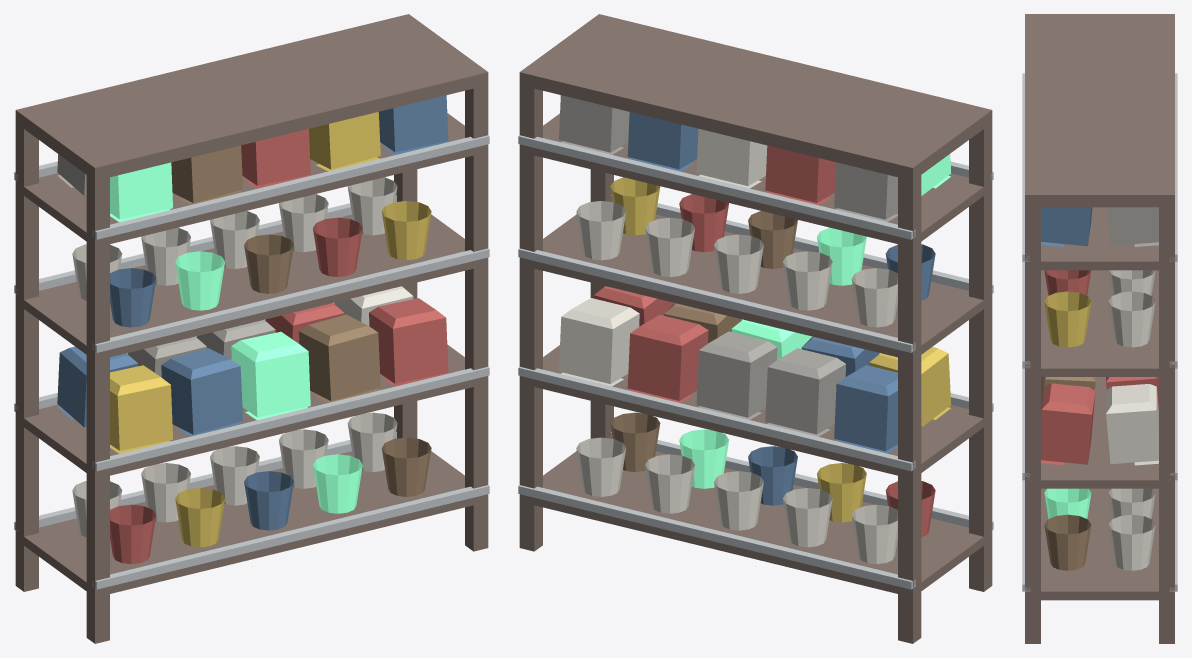
The model's file is sf_snack_shelf.glb.
3 views of the same model, side by side, from view 1: azimuth 30°, elevation 25°; view 2: azimuth 150°, elevation 25°; view 3: azimuth 270°, elevation 25° (orthographic). The views are drawn at different scales.
Visible parts, largest first — view 1: SnackShelfPure3D_Root; view 2: SnackShelfPure3D_Root; view 3: SnackShelfPure3D_Root.
Part boxes in pixels (x1,y1,x2,y2): SnackShelfPure3D_Root: [14, 14, 489, 643]; SnackShelfPure3D_Root: [518, 14, 993, 643]; SnackShelfPure3D_Root: [1022, 14, 1177, 643].
Size of the model in its own units: 1.6 by 1.85 by 0.58.
